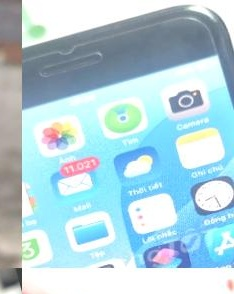scratch: (22, 0, 234, 268)
